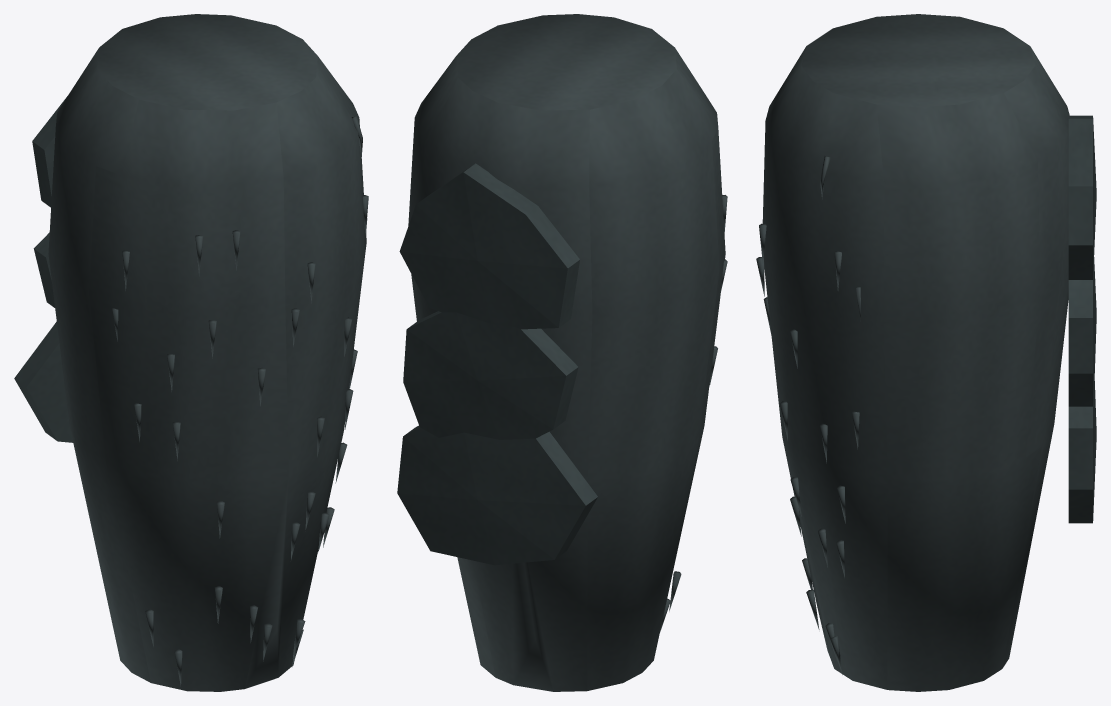
Rendered from thigh_l_lod1.glb.
3 views of the same model, side by side, from view 1: azimuth 30°, elevation 25°; view 2: azimuth 150°, elevation 25°; view 3: azimuth 270°, elevation 25° (orthographic).
Visible parts, largest first — view 1: dormin_thigh_l_LOD1; view 2: dormin_thigh_l_LOD1; view 3: dormin_thigh_l_LOD1.
Part boxes in pixels (left/top/right/bottom): dormin_thigh_l_LOD1: left=14, top=14, right=368, bottom=691; dormin_thigh_l_LOD1: left=397, top=14, right=727, bottom=691; dormin_thigh_l_LOD1: left=756, top=14, right=1096, bottom=691.
Size of the model in its own units: 1.9 by 3.86 by 2.01.
2 materials, 2 textured.
